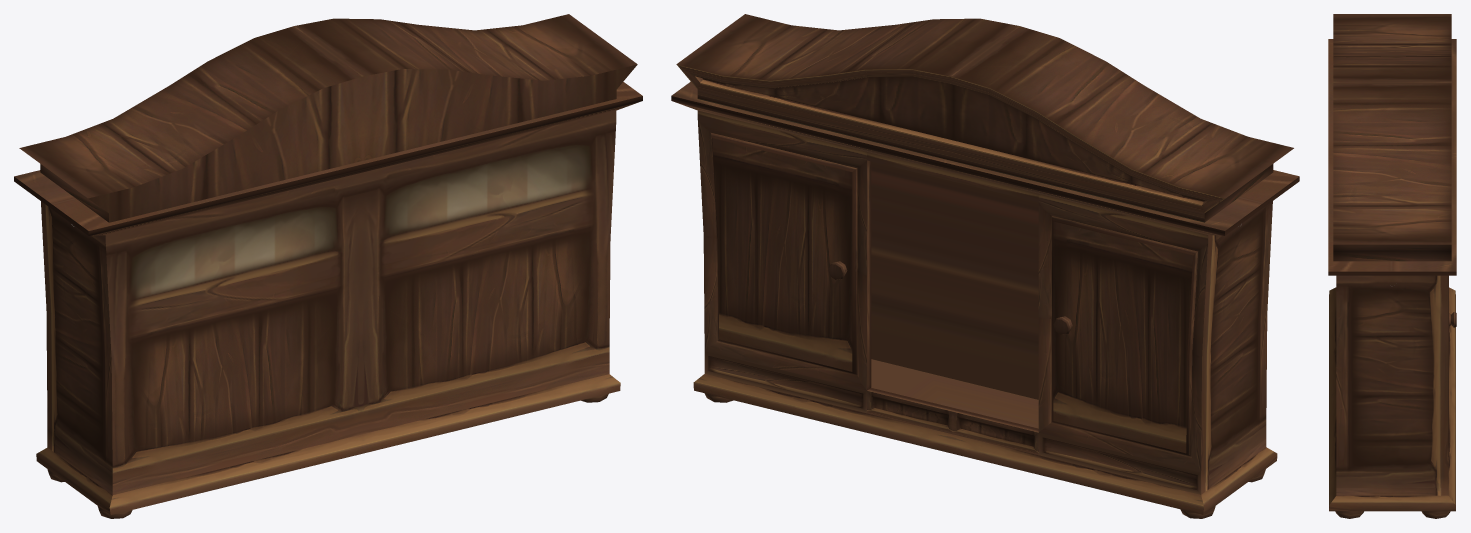
File: wardrobe.glb
The picture shows the model from 3 angles, left to right: view 1: azimuth 30°, elevation 25°; view 2: azimuth 150°, elevation 25°; view 3: azimuth 270°, elevation 25°; orthographic projection. The views are drawn at different scales.
Visible parts, largest first — view 1: wardrobe_new; view 2: wardrobe_new; view 3: wardrobe_new.
Part boxes in pixels (left/top/right/bottom): wardrobe_new: left=14, top=14, right=642, bottom=518; wardrobe_new: left=671, top=14, right=1299, bottom=518; wardrobe_new: left=1328, top=14, right=1456, bottom=518.
Bounding box in the file's own units: 5.23 × 3.47 × 1.22.
2 materials, 2 textured.
